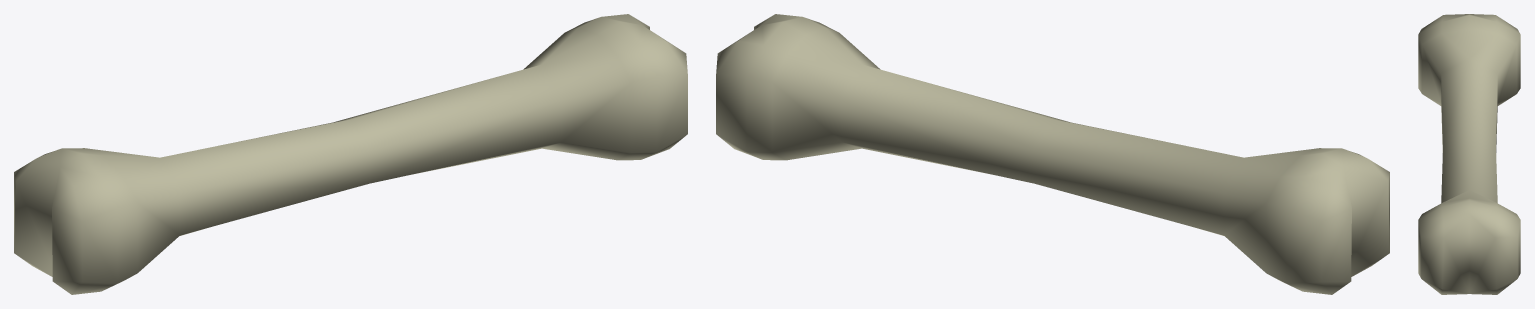
Rendered from bone.fbx.
The picture shows the model from 3 angles, left to right: view 1: azimuth 30°, elevation 25°; view 2: azimuth 150°, elevation 25°; view 3: azimuth 270°, elevation 25°; orthographic projection. The views are drawn at different scales.
Visible parts, largest first — view 1: bone.001; view 2: bone.001; view 3: bone.001.
Boxes of the visible parts, <box> form: bone.001: <box>14,14,687,294</box>; bone.001: <box>716,14,1389,294</box>; bone.001: <box>1418,14,1520,294</box>.
Bounding box in the file's own units: 267 × 52.51 × 52.91.
